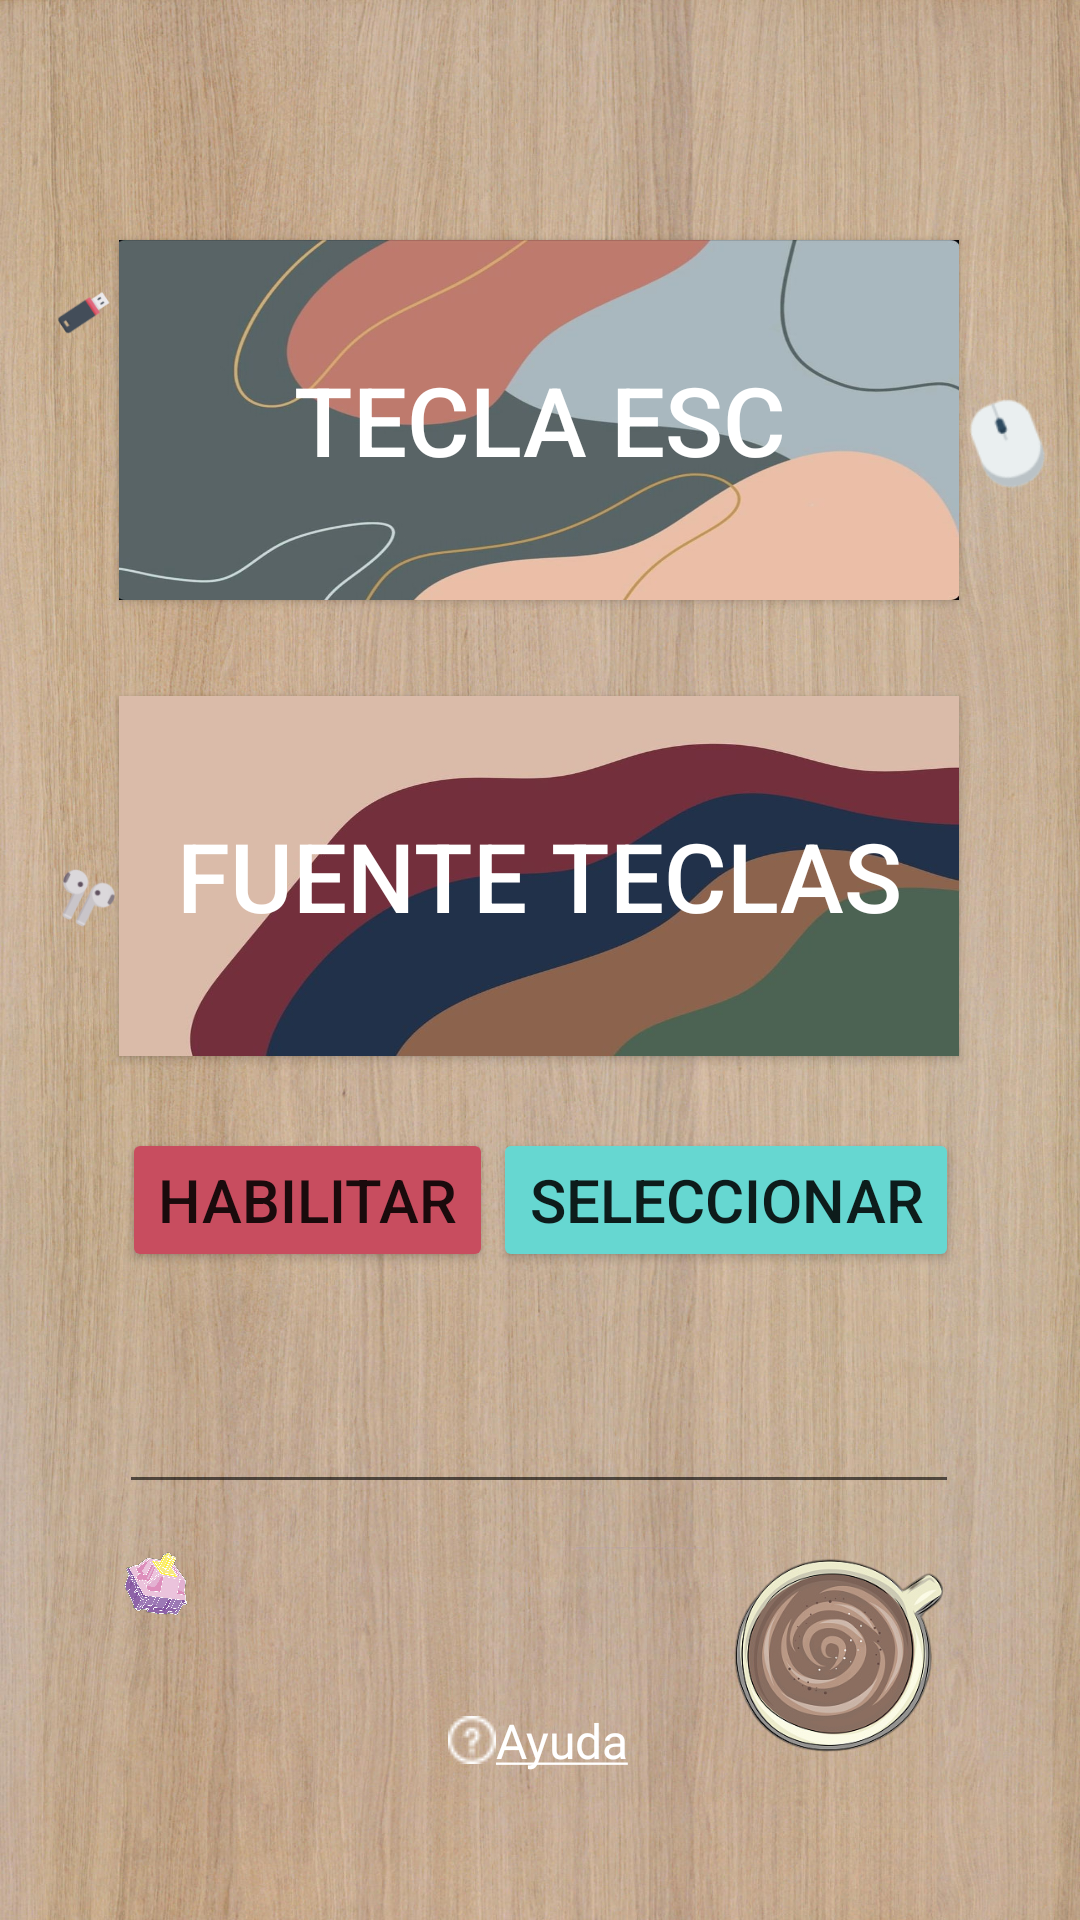

Named icons in this screenshot (1080×1920) and their centers, point (x, y):
coffeecup: point (840, 1655)
earpods: point (83, 900)
mouse: point (1008, 444)
usb: point (84, 312)
